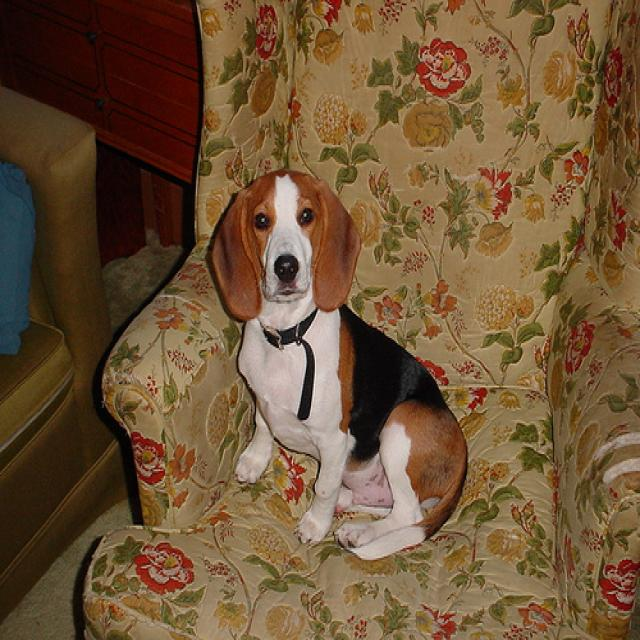dog-beagle: (198, 160, 479, 570)
